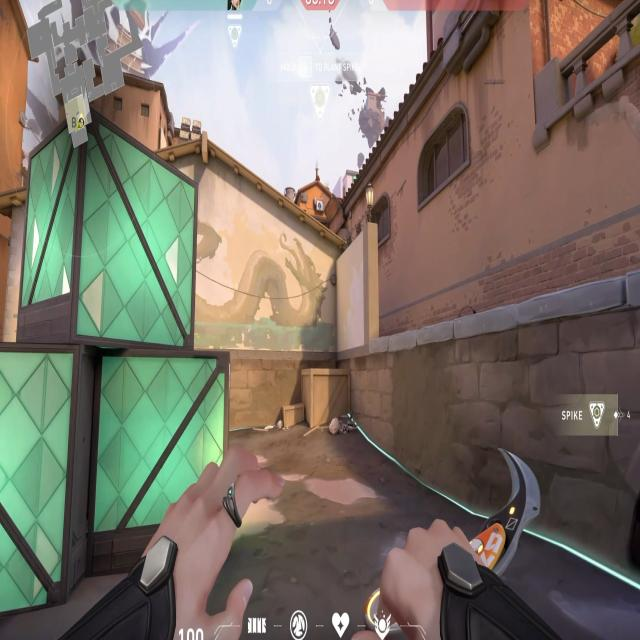B_Site_Box: (0, 96, 233, 622)
Throwables: (409, 94, 478, 211), (363, 197, 395, 254)
